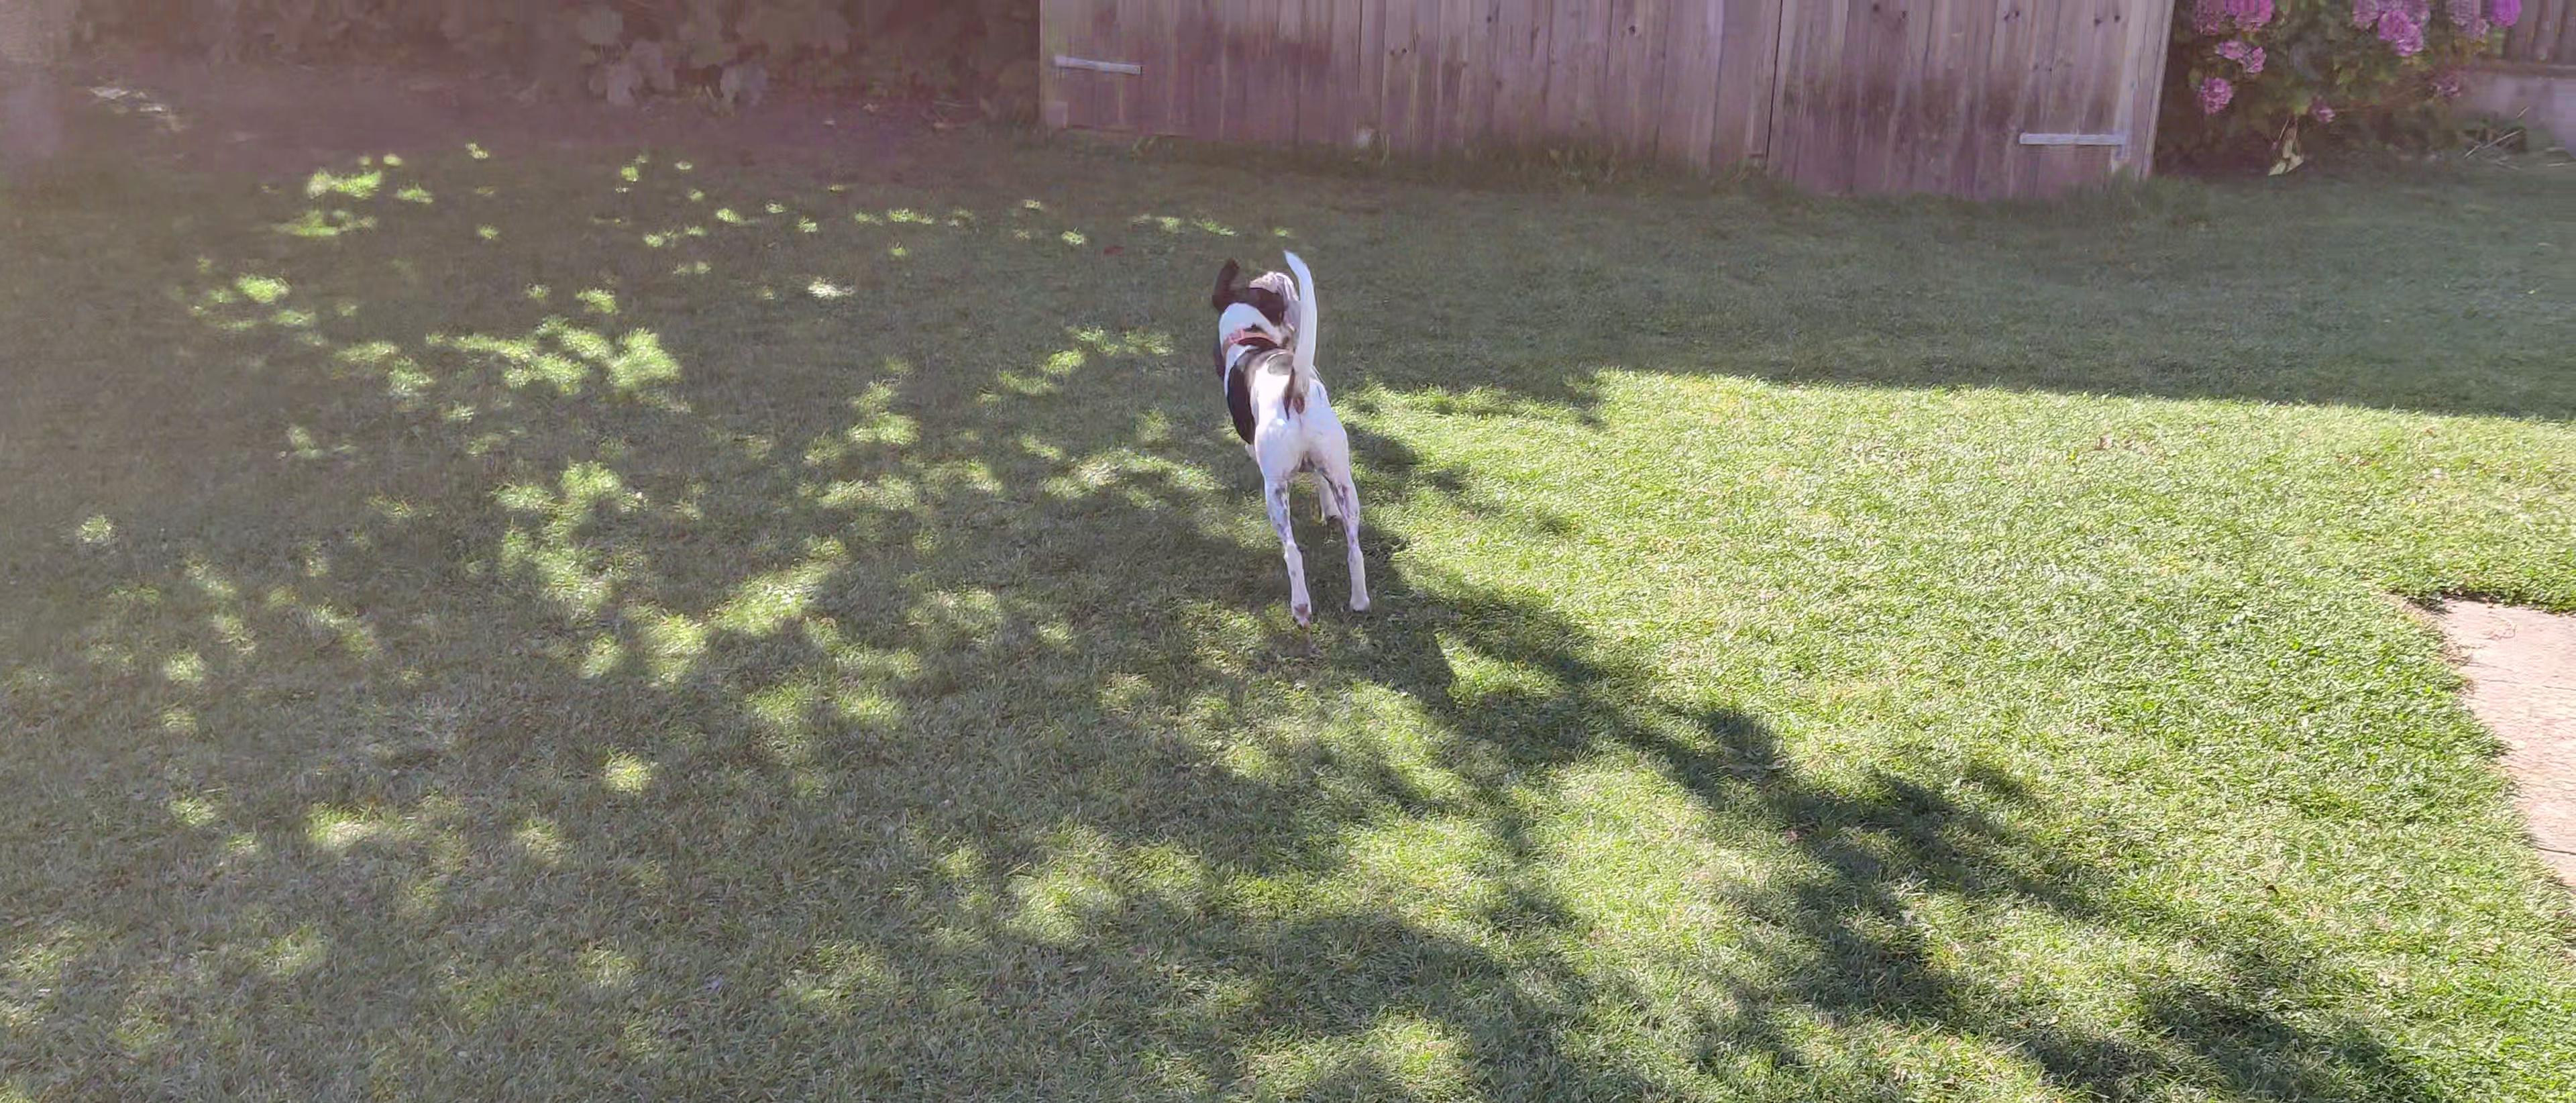Dog: (1178, 228, 1383, 646)
